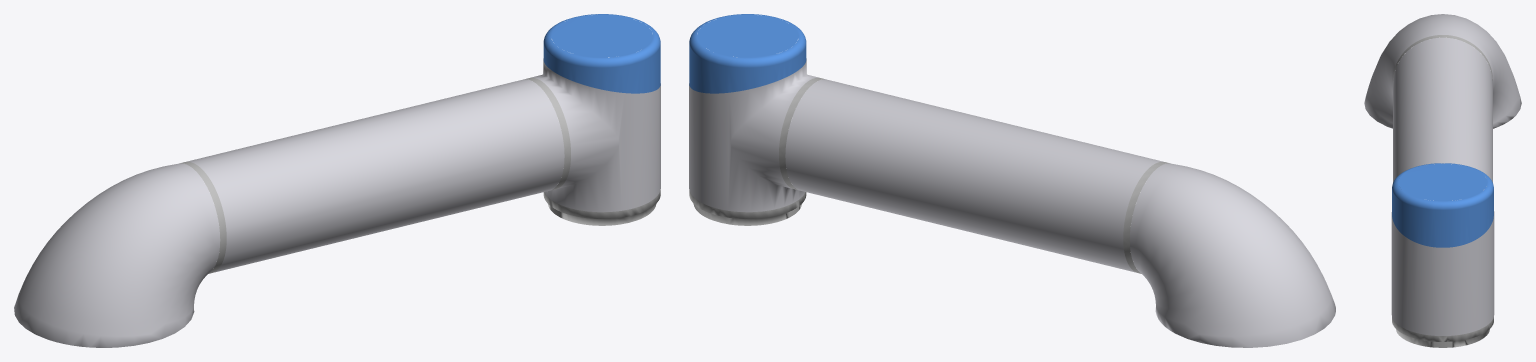
The picture shows the model from 3 angles, left to right: view 1: azimuth 30°, elevation 25°; view 2: azimuth 150°, elevation 25°; view 3: azimuth 270°, elevation 25°; orthographic projection. The views are drawn at different scales.
Parts seen in each view (by area): view 1: mesh; view 2: mesh; view 3: mesh.
Boxes of the visible parts, x1,y1,x2,y2 form: mesh: [14, 14, 660, 347]; mesh: [689, 14, 1335, 347]; mesh: [1364, 14, 1521, 347].
Bounding box in the file's own units: 473 × 120 × 118.
